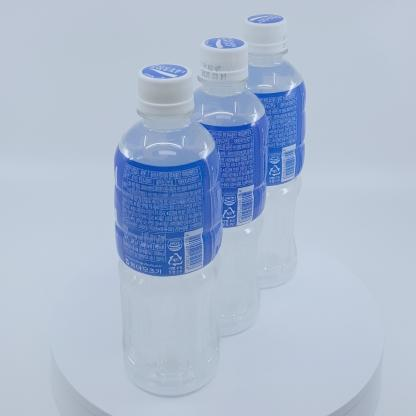--------500ML: (114, 63, 223, 395)
